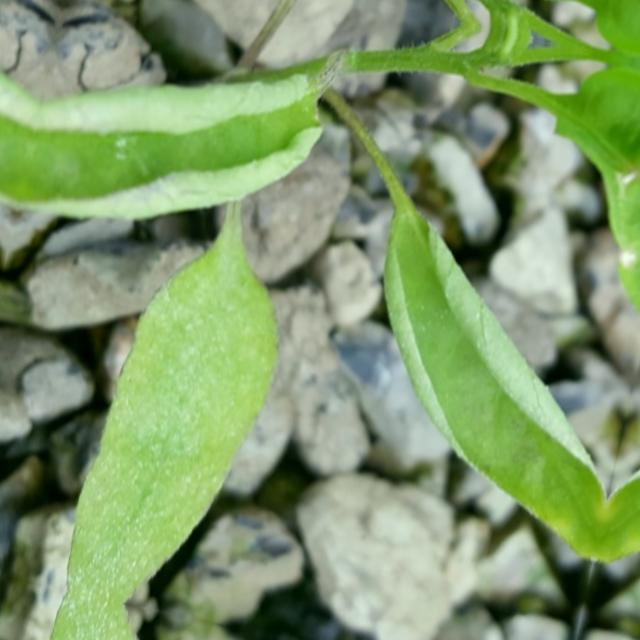Tomato leaf: (315, 175, 640, 562), (38, 193, 314, 627), (493, 52, 640, 431), (530, 43, 640, 147)
